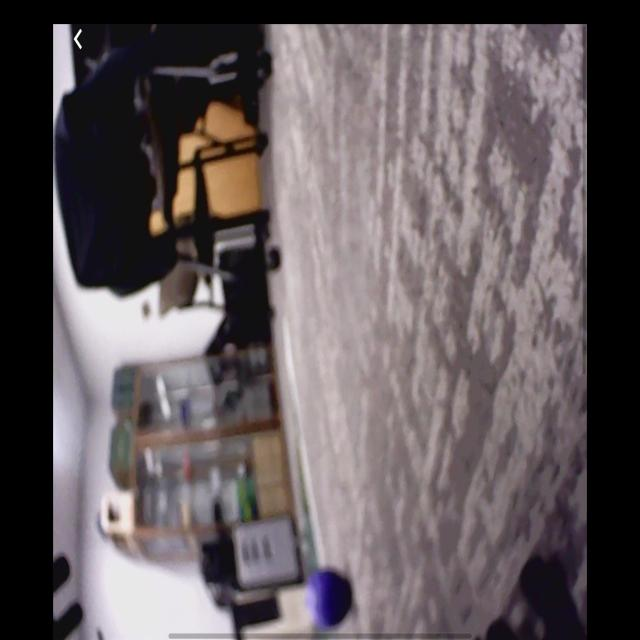ball: (306, 570, 348, 626)
